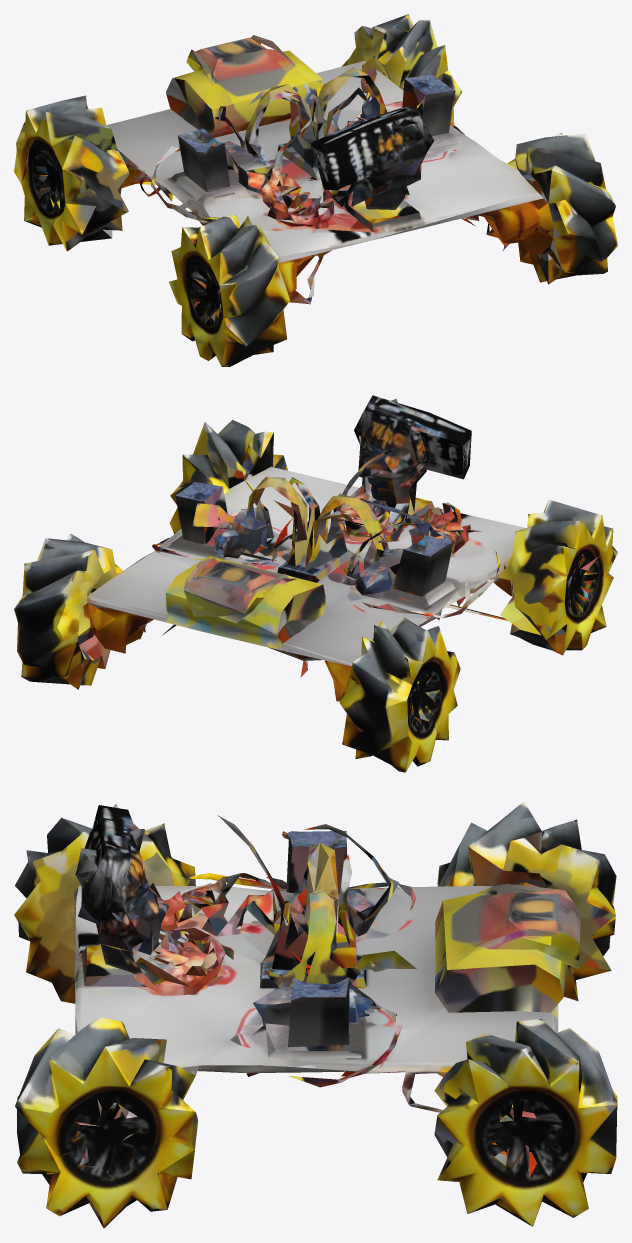
3 renders of one model, top to bottom at view 1: azimuth 30°, elevation 25°; view 2: azimuth 150°, elevation 25°; view 3: azimuth 270°, elevation 25°, orthographic. The views are drawn at different scales.
Parts seen in each view (by area): view 1: tmpct0ow7pw.ply; view 2: tmpct0ow7pw.ply; view 3: tmpct0ow7pw.ply.
Boxes of the visible parts, bbox=[...] form: tmpct0ow7pw.ply: bbox=[14, 14, 617, 366]; tmpct0ow7pw.ply: bbox=[14, 395, 617, 772]; tmpct0ow7pw.ply: bbox=[14, 801, 617, 1228].
Bounding box in the file's own units: 1.95 × 0.9812 × 1.97.
1 material, 1 textured.
